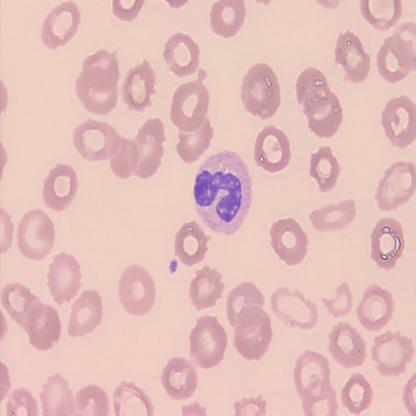Band Neutrophil: (190, 149, 254, 236)
